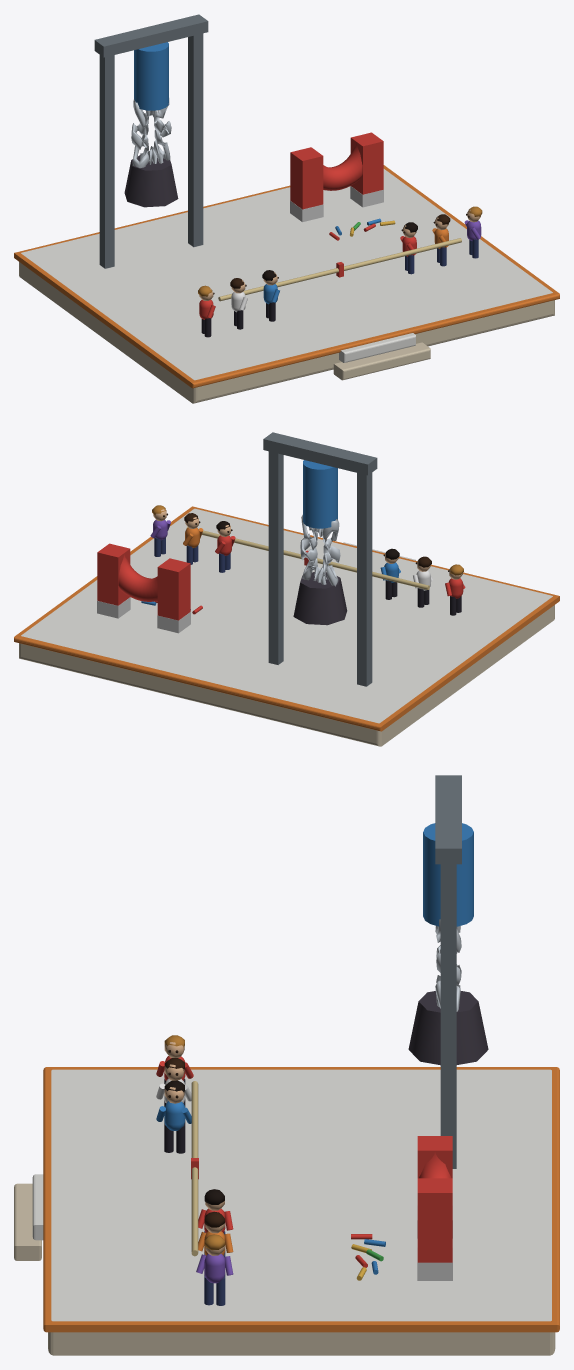
Rendered from arena.glb.
3 views of the same model, one above another, from view 1: azimuth 30°, elevation 25°; view 2: azimuth 150°, elevation 25°; view 3: azimuth 270°, elevation 25° (orthographic). The views are drawn at different scales.
Visible parts, largest first — view 1: part_000, part_002, part_001; view 2: part_000, part_002, part_001; view 3: part_000, part_002, part_001.
Part boxes in pixels (x1,y1,x2,y2): part_000: [14, 14, 559, 403]; part_002: [124, 155, 178, 207]; part_001: [131, 98, 171, 167]; part_000: [14, 432, 559, 746]; part_002: [293, 571, 347, 625]; part_001: [300, 514, 340, 586]; part_000: [14, 775, 559, 1355]; part_002: [408, 991, 488, 1065]; part_001: [435, 919, 461, 1011].
Size of the model in its own units: 9.14 by 5.93 by 8.18.
